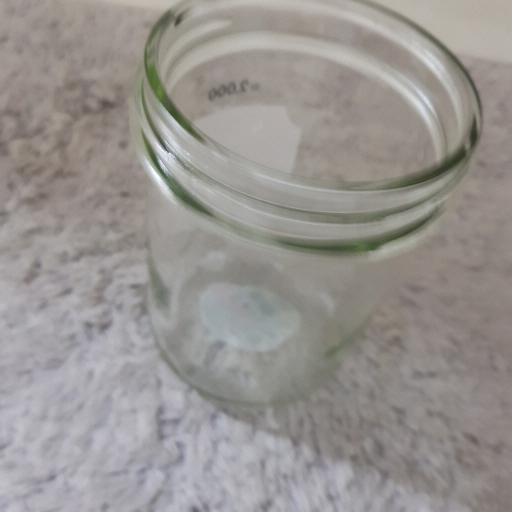Glass_5: (128, 2, 484, 399)
